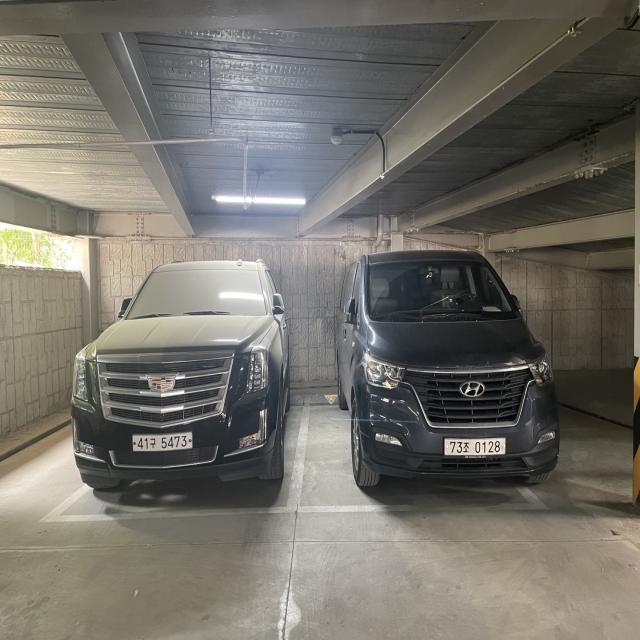occupied: (304, 295, 635, 521), (32, 279, 308, 513)
